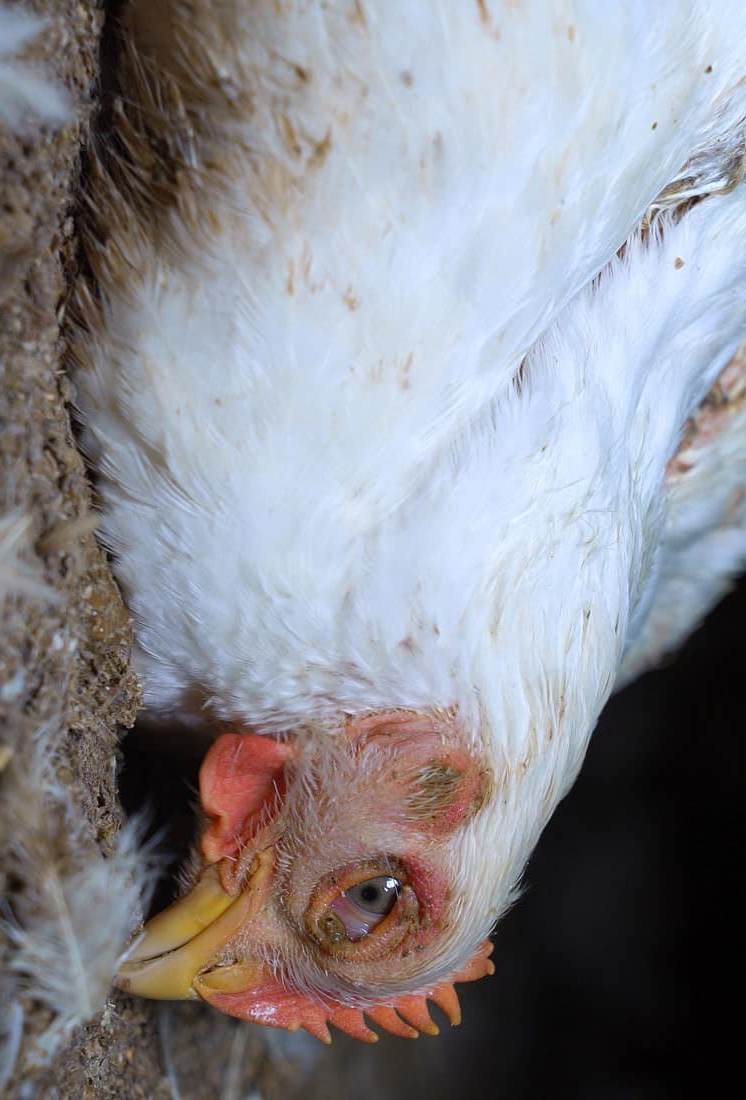Unhealthy: (47, 278, 646, 1049)
